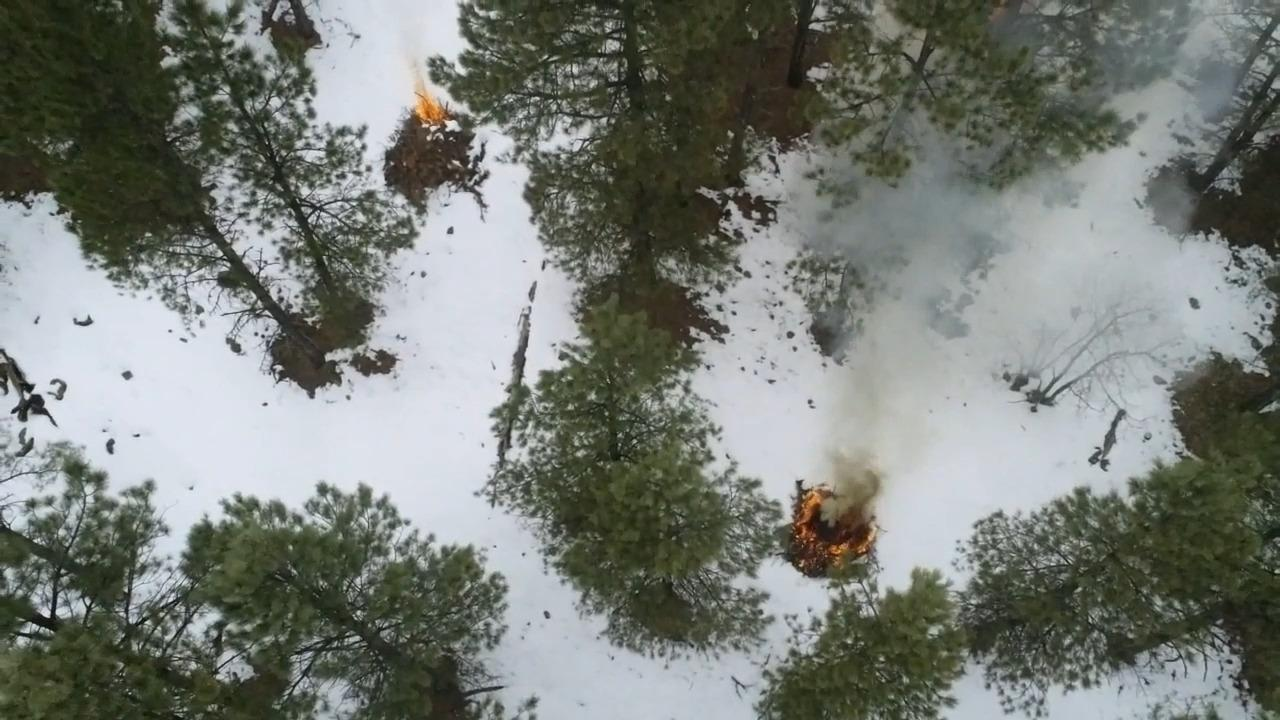fire: (782, 469, 877, 569), (407, 78, 444, 128)
smoke: (816, 154, 999, 336)
